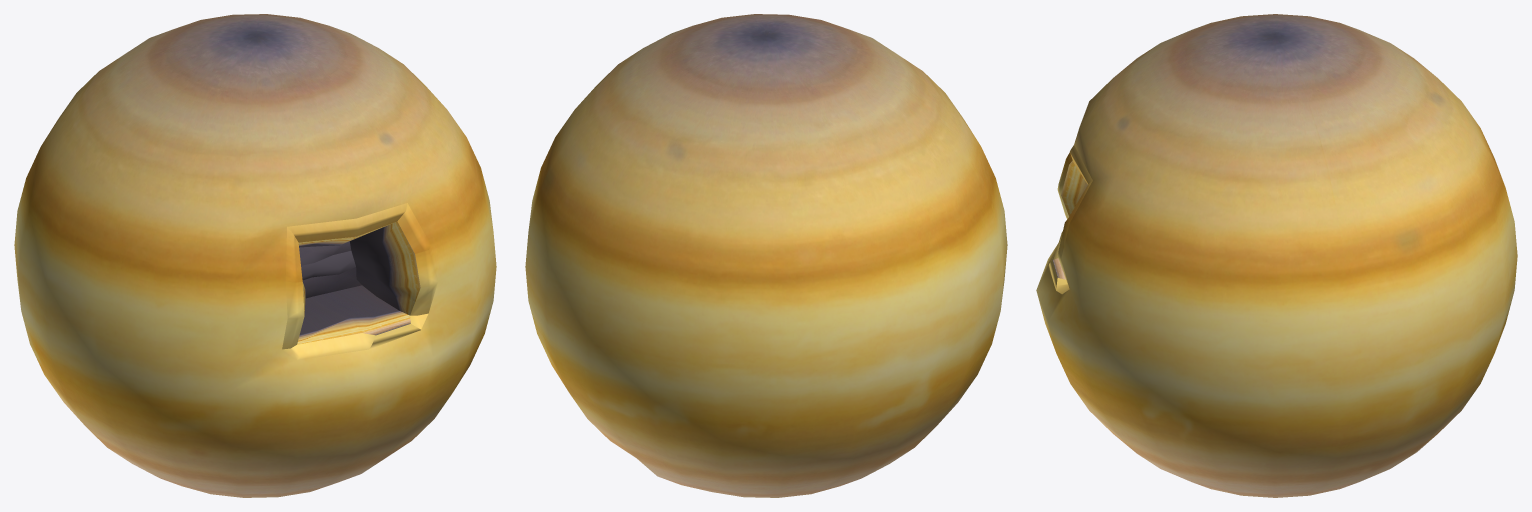
Rendered from textured saturn.fbx.
3 views of the same model, side by side, from view 1: azimuth 30°, elevation 25°; view 2: azimuth 150°, elevation 25°; view 3: azimuth 270°, elevation 25° (orthographic).
Parts seen in each view (by area): view 1: pSphere1; view 2: pSphere1; view 3: pSphere1.
Part boxes in pixels (x1,y1,x2,y2): pSphere1: (14, 14, 496, 497); pSphere1: (525, 14, 1007, 497); pSphere1: (1036, 14, 1517, 497).
Bounding box in the file's own units: 112 × 112 × 111.
Materials: 2 (2 with a texture image).
